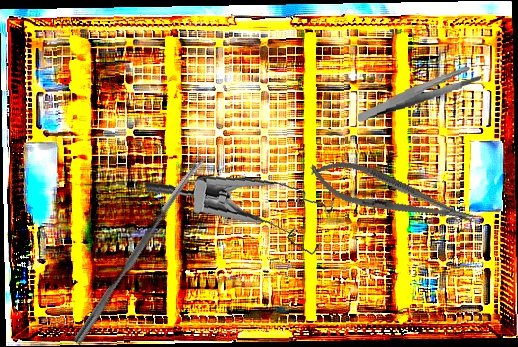Dressing Forceps: (354, 65, 484, 123)
Needle Holder: (303, 150, 481, 240)
Speculum: (143, 161, 341, 272)
Surgical Spoon: (72, 152, 209, 346)
